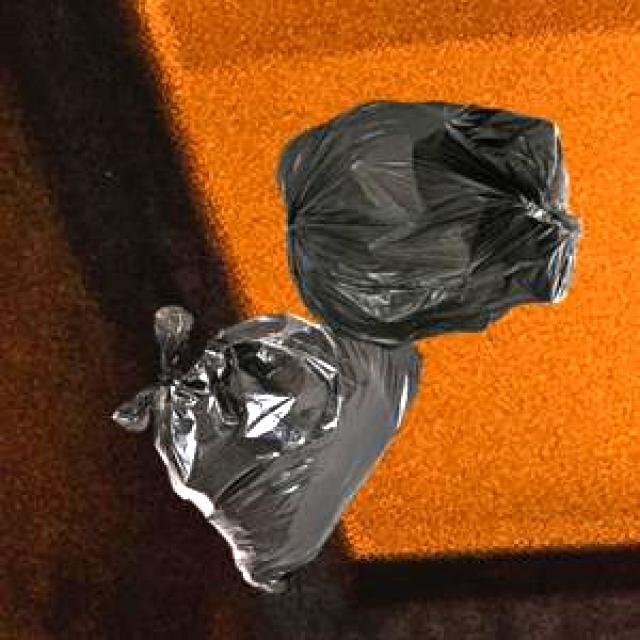Garbage_Bag: (110, 304, 420, 590), (272, 97, 579, 347)
